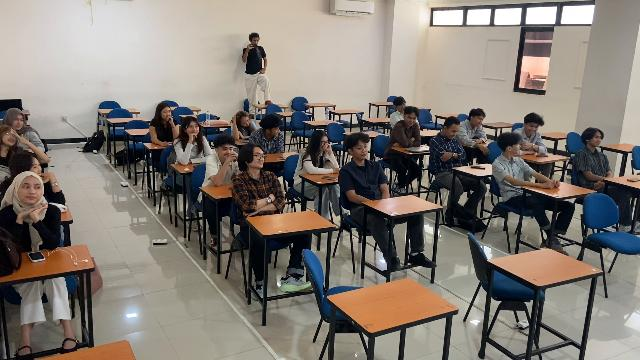senang: (21, 181, 41, 202), (354, 144, 368, 159), (253, 149, 264, 168), (2, 130, 15, 145), (32, 160, 42, 176), (527, 121, 539, 134), (14, 116, 25, 130), (449, 124, 459, 139), (473, 114, 484, 127), (592, 133, 602, 147), (188, 122, 199, 134), (221, 145, 233, 156), (405, 114, 417, 125), (271, 127, 281, 137), (513, 142, 521, 154), (162, 108, 172, 116), (398, 102, 407, 110)
